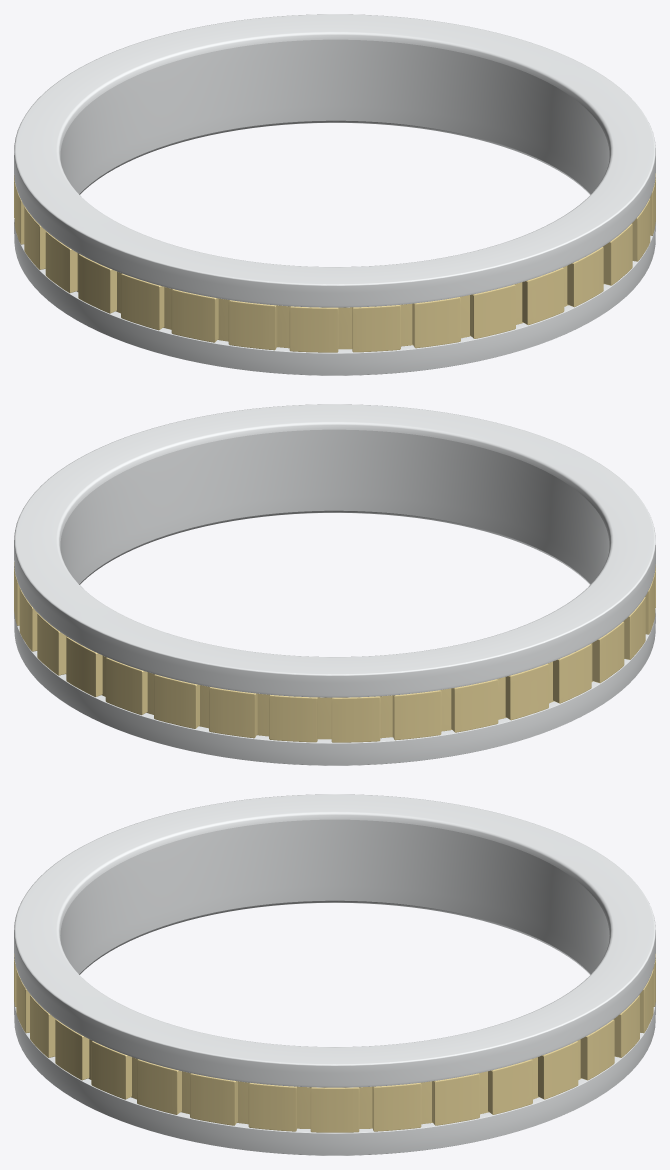
3 renders of one model, top to bottom at view 1: azimuth 30°, elevation 25°; view 2: azimuth 150°, elevation 25°; view 3: azimuth 270°, elevation 25°, orthographic.
Parts seen in each view (by area): view 1: Base_Metal, Engraving_Metal, Finishing_Metal; view 2: Base_Metal, Engraving_Metal, Finishing_Metal; view 3: Base_Metal, Engraving_Metal, Finishing_Metal.
Part boxes in pixels (x1,y1,x2,y2): Base_Metal: (14,14,655,375); Engraving_Metal: (60,39,609,194); Finishing_Metal: (14,173,655,352); Base_Metal: (14,404,655,765); Engraving_Metal: (60,429,609,584); Finishing_Metal: (14,562,655,742); Base_Metal: (14,794,655,1155); Engraving_Metal: (60,819,609,974); Finishing_Metal: (14,954,655,1132).
Size of the model in its own units: 2.03 by 0.3199 by 2.03.
